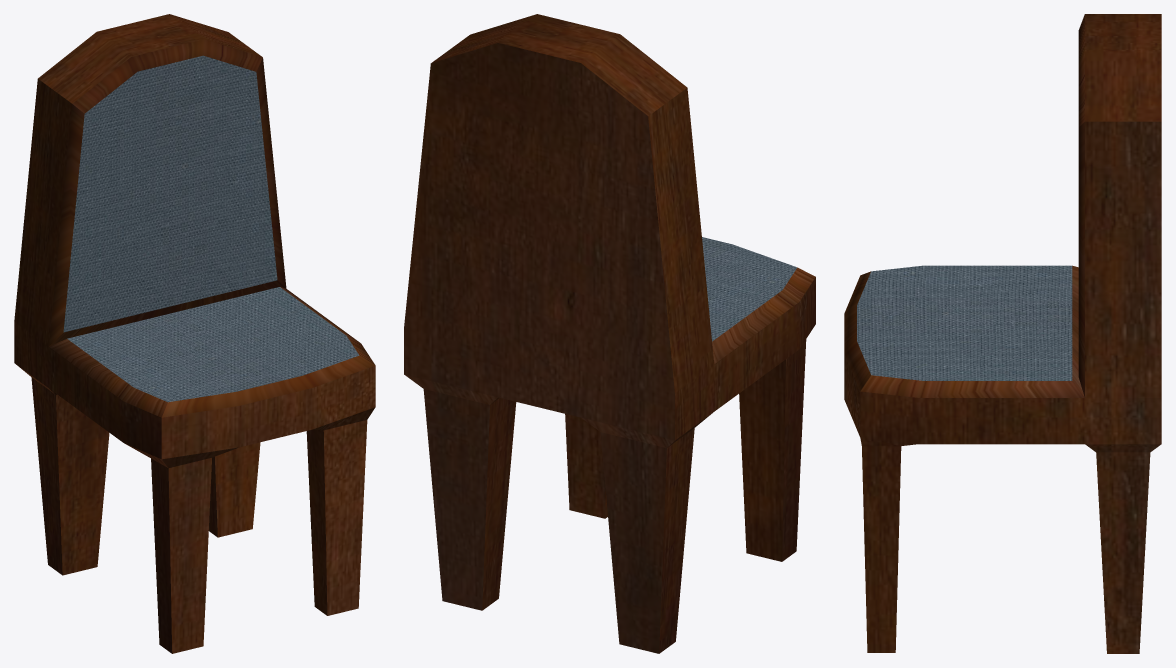
File: Chair_Blue.fbx
3 views of the same model, side by side, from view 1: azimuth 30°, elevation 25°; view 2: azimuth 150°, elevation 25°; view 3: azimuth 270°, elevation 25° (orthographic). The views are drawn at different scales.
Visible parts, largest first — view 1: chair_blue; view 2: chair_blue; view 3: chair_blue.
Boxes of the visible parts, box(x1,y1,x2,y2) form: chair_blue: box(14, 14, 375, 653); chair_blue: box(404, 14, 815, 653); chair_blue: box(844, 14, 1161, 653).
Size of the model in its own units: 0.6948 by 1.43 by 0.7228.
Materials: 2 (2 with a texture image).
